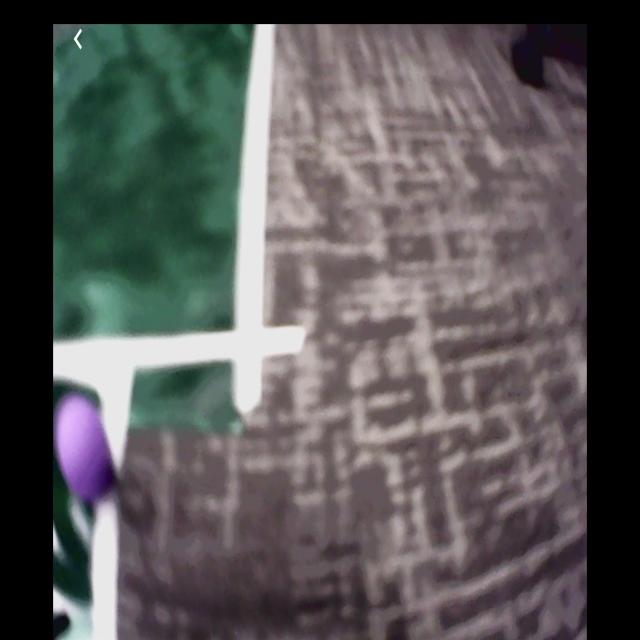ball: (55, 396, 117, 502)
